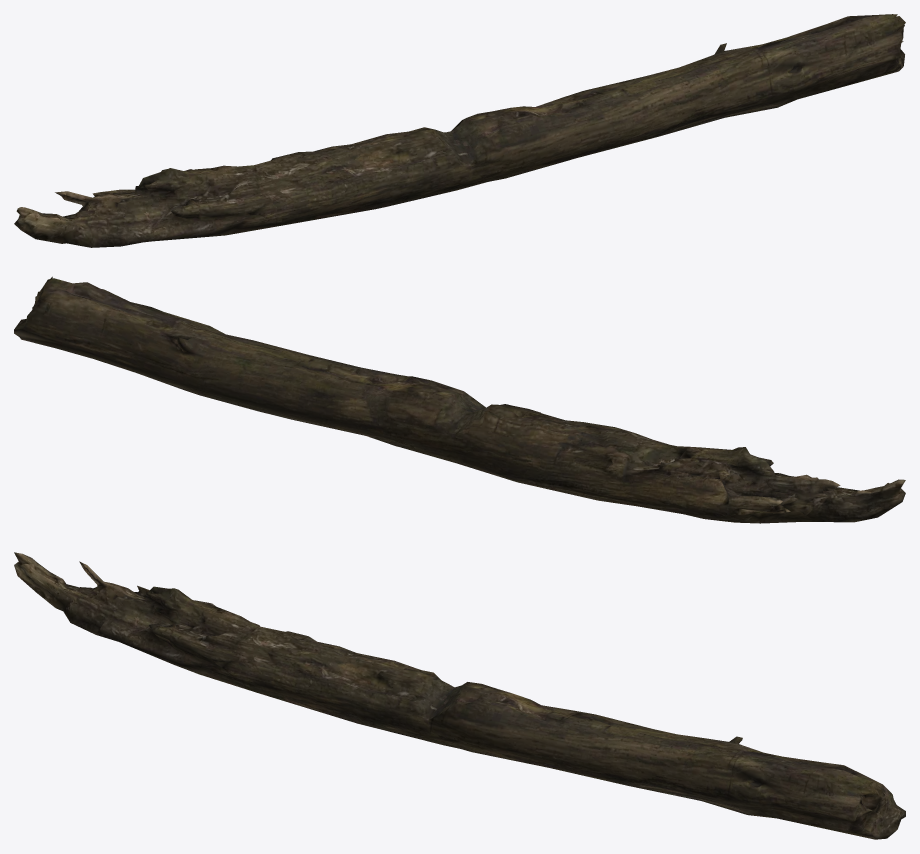
The model's file is fallen_log_01.glb.
The picture shows the model from 3 angles, top to bottom: view 1: azimuth 30°, elevation 25°; view 2: azimuth 150°, elevation 25°; view 3: azimuth 330°, elevation 25°; orthographic projection.
Visible parts, largest first — view 1: fallen_log_01; view 2: fallen_log_01; view 3: fallen_log_01.
Part boxes in pixels (x1=…): fallen_log_01: x1=14, y1=14, x2=905, y2=247; fallen_log_01: x1=14, y1=276, x2=905, y2=523; fallen_log_01: x1=14, y1=552, x2=905, y2=839.
Size of the model in its own units: 3.04 by 0.2847 by 0.2699.
1 material, 1 textured.
